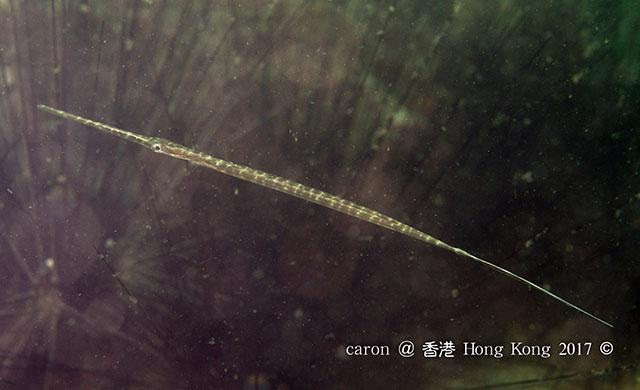Fistularia commersonii: (34, 99, 616, 329)
